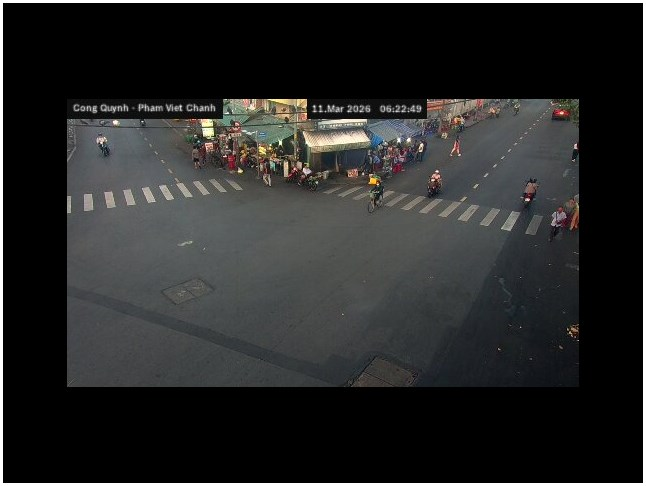motorbike: (427, 170, 443, 197)
